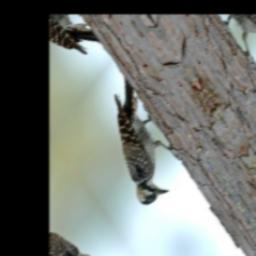Woodpecker: (83, 69, 193, 217)
